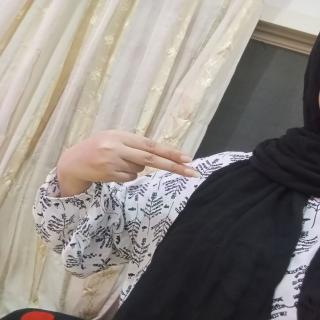AYN: (44, 125, 206, 198)
